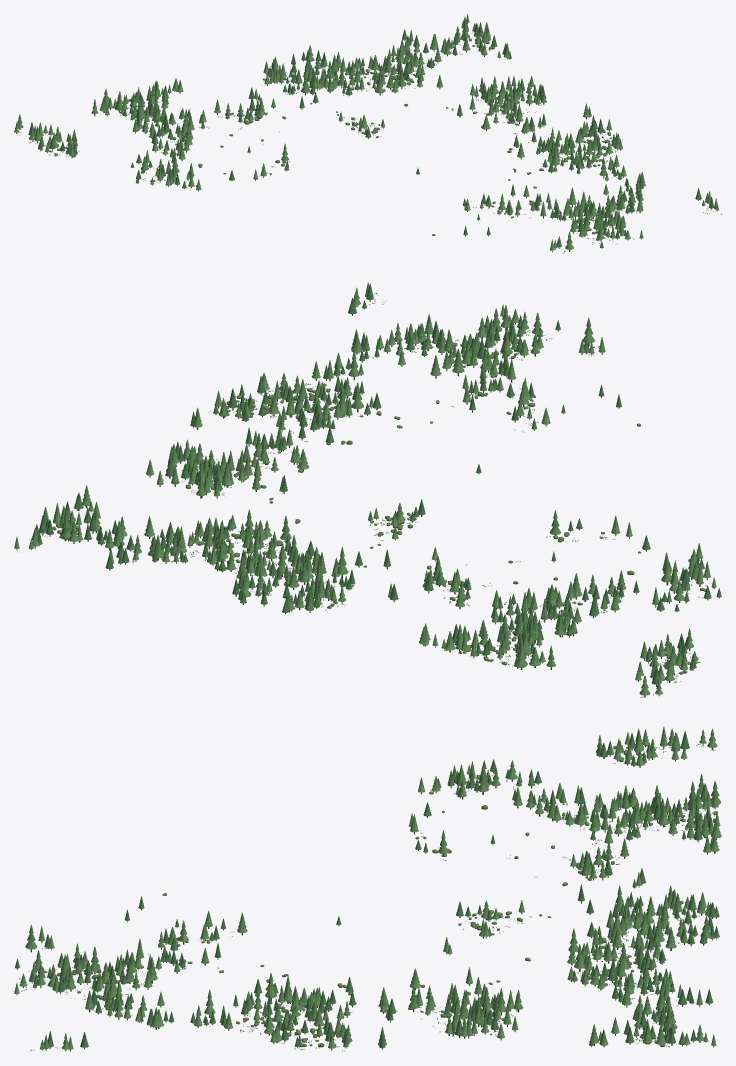
File: Foliage_P1.fbx
3 views of the same model, one above another, from view 1: azimuth 30°, elevation 25°; view 2: azimuth 150°, elevation 25°; view 3: azimuth 270°, elevation 25° (orthographic). The views are drawn at different scales.
Bounding box in the file's own units: 61470 × 5630 × 61265.
